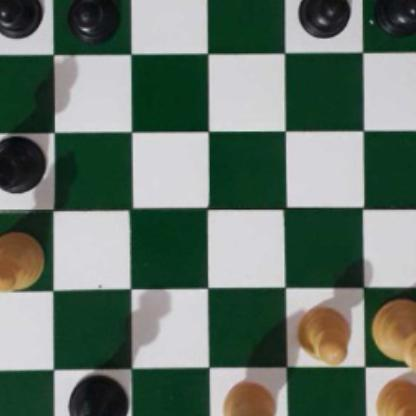black-bishop: (0, 136, 47, 195)
black-pawn: (66, 0, 117, 40), (298, 0, 350, 35), (0, 0, 39, 39), (376, 0, 416, 34)
black-queen: (70, 371, 128, 416)
white-bishop: (0, 229, 44, 294)
white-king: (372, 301, 416, 381)
white-knight: (216, 381, 288, 416)
white-pawn: (296, 302, 351, 363), (372, 379, 416, 416)
